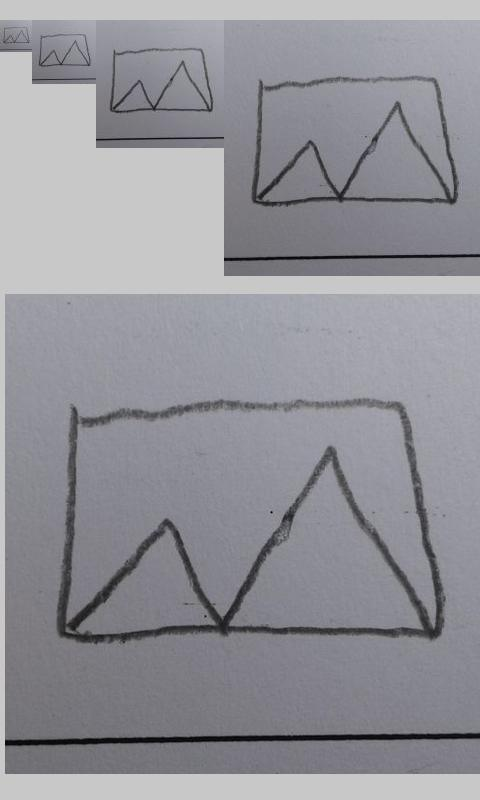image_view: (56, 398, 446, 650), (253, 76, 459, 209), (109, 48, 213, 114), (38, 33, 91, 68), (3, 26, 30, 44)
